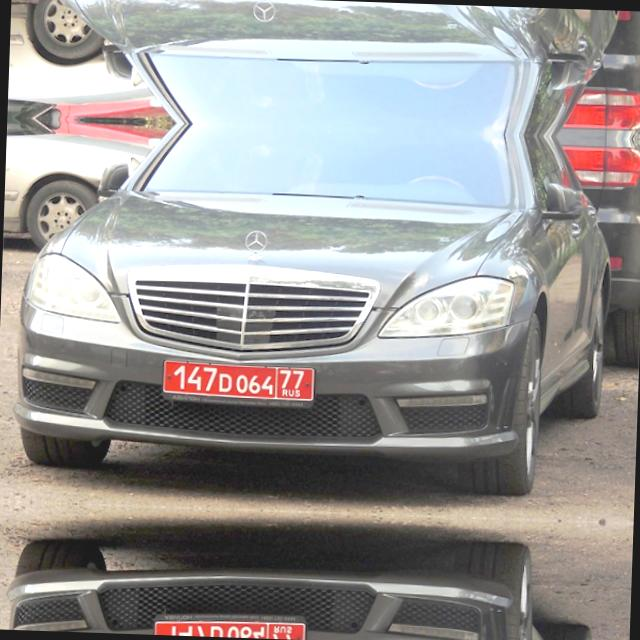diplomatic: (157, 352, 318, 414), (149, 604, 309, 640)
